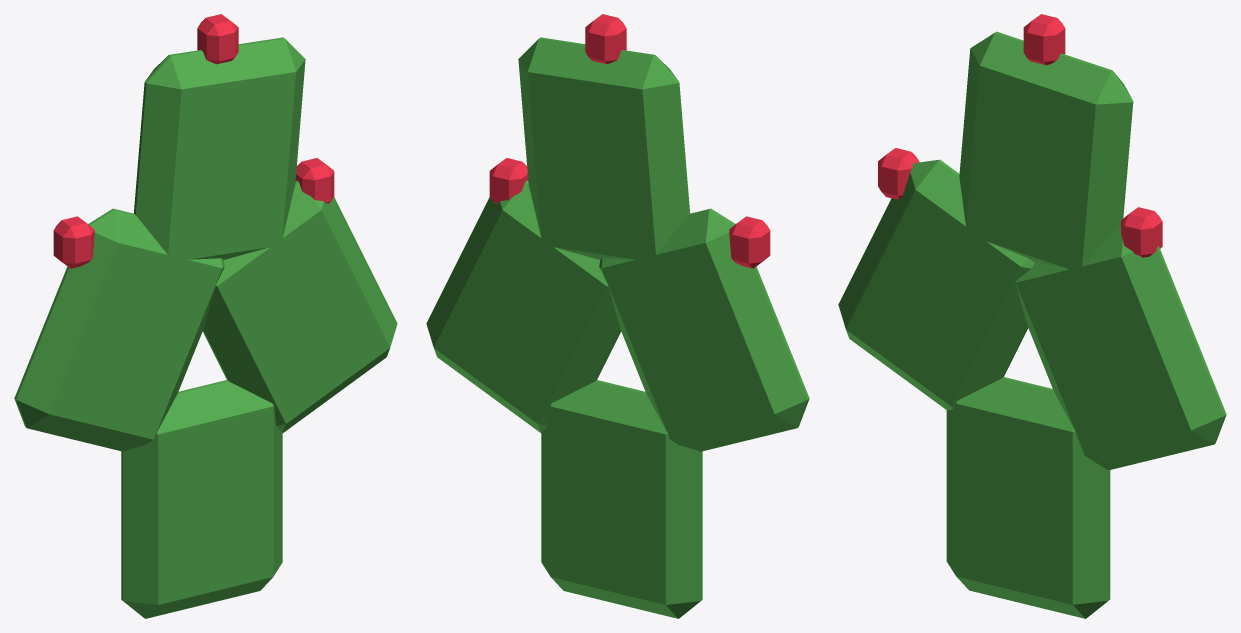
Rendered from PricklyPear.fbx.
3 renders of one model, left to right at view 1: azimuth 30°, elevation 25°; view 2: azimuth 150°, elevation 25°; view 3: azimuth 330°, elevation 25°, orthographic.
Visible parts, largest first — view 1: PricklyPear; view 2: PricklyPear; view 3: PricklyPear.
Part boxes in pixels (left/top/right/bottom): PricklyPear: left=14, top=14, right=397, bottom=618; PricklyPear: left=426, top=14, right=809, bottom=618; PricklyPear: left=838, top=14, right=1226, bottom=618.
Bounding box in the file's own units: 2.39 × 3.47 × 0.3.
1 material, 1 textured.
